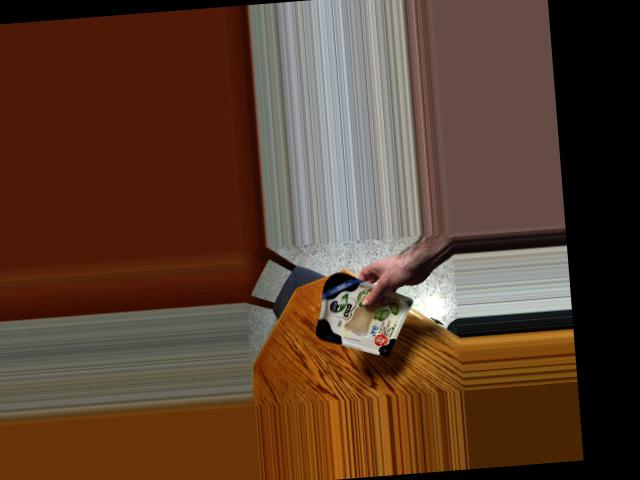cheese: (307, 272, 400, 358)
